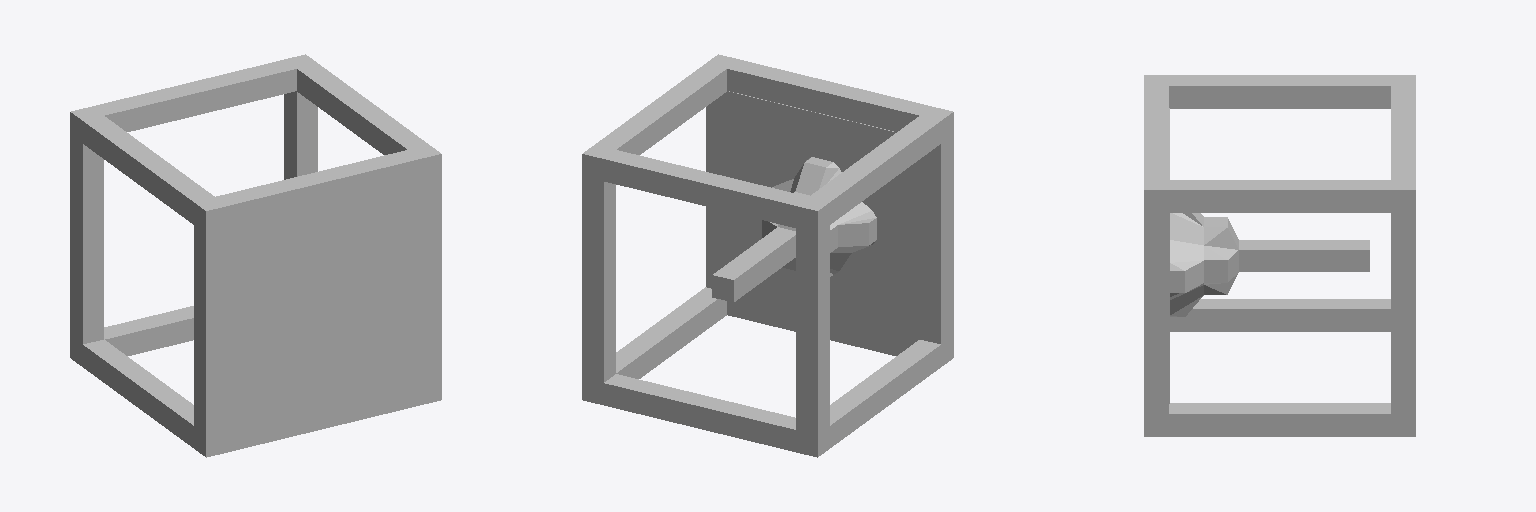
The model's file is BF_Reactor_Shield_Stabiliser_Frame.obj.
3 renders of one model, left to right at view 1: azimuth 30°, elevation 25°; view 2: azimuth 150°, elevation 25°; view 3: azimuth 270°, elevation 25°, orthographic.
Parts seen in each view (by area): view 1: Cube_Cube.001; view 2: Cube_Cube.001; view 3: Cube_Cube.001.
Boxes of the visible parts, <box> form: Cube_Cube.001: <box>70,54,441,457</box>; Cube_Cube.001: <box>582,54,953,457</box>; Cube_Cube.001: <box>1144,75,1415,436</box>.
Bounding box in the file's own units: 2 × 2 × 2.